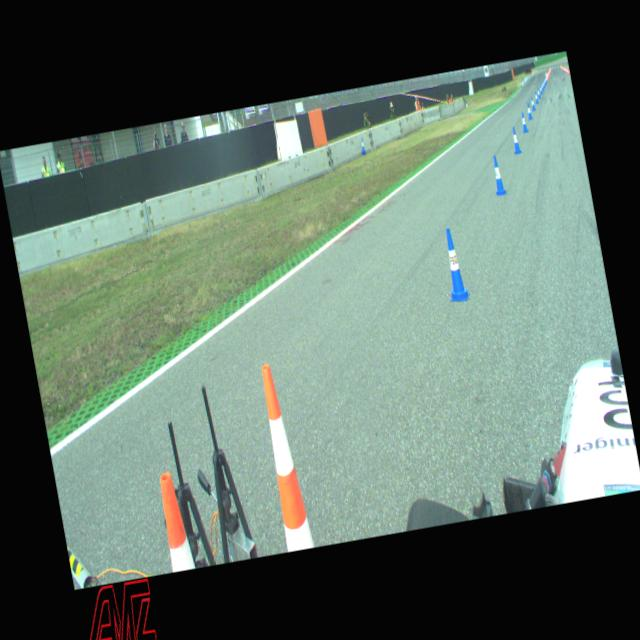blue_cone: (438, 226, 470, 302), (489, 154, 506, 196), (510, 126, 520, 154), (519, 111, 528, 133), (529, 95, 536, 112), (525, 102, 532, 118), (360, 138, 365, 153), (534, 90, 538, 103), (536, 88, 540, 99), (539, 84, 543, 95), (541, 82, 544, 91), (542, 80, 545, 88)
large_orange_cone: (255, 360, 314, 552)
